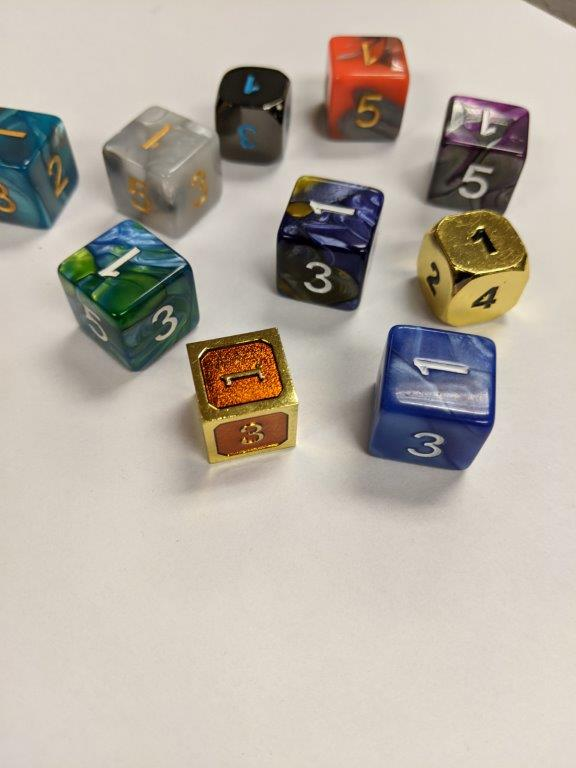d6-1: (56, 217, 200, 374), (363, 323, 499, 481), (183, 326, 300, 470), (98, 106, 221, 236), (271, 172, 385, 312), (413, 208, 529, 335), (421, 92, 532, 222), (320, 32, 410, 144), (1, 102, 80, 225), (213, 65, 292, 165)
